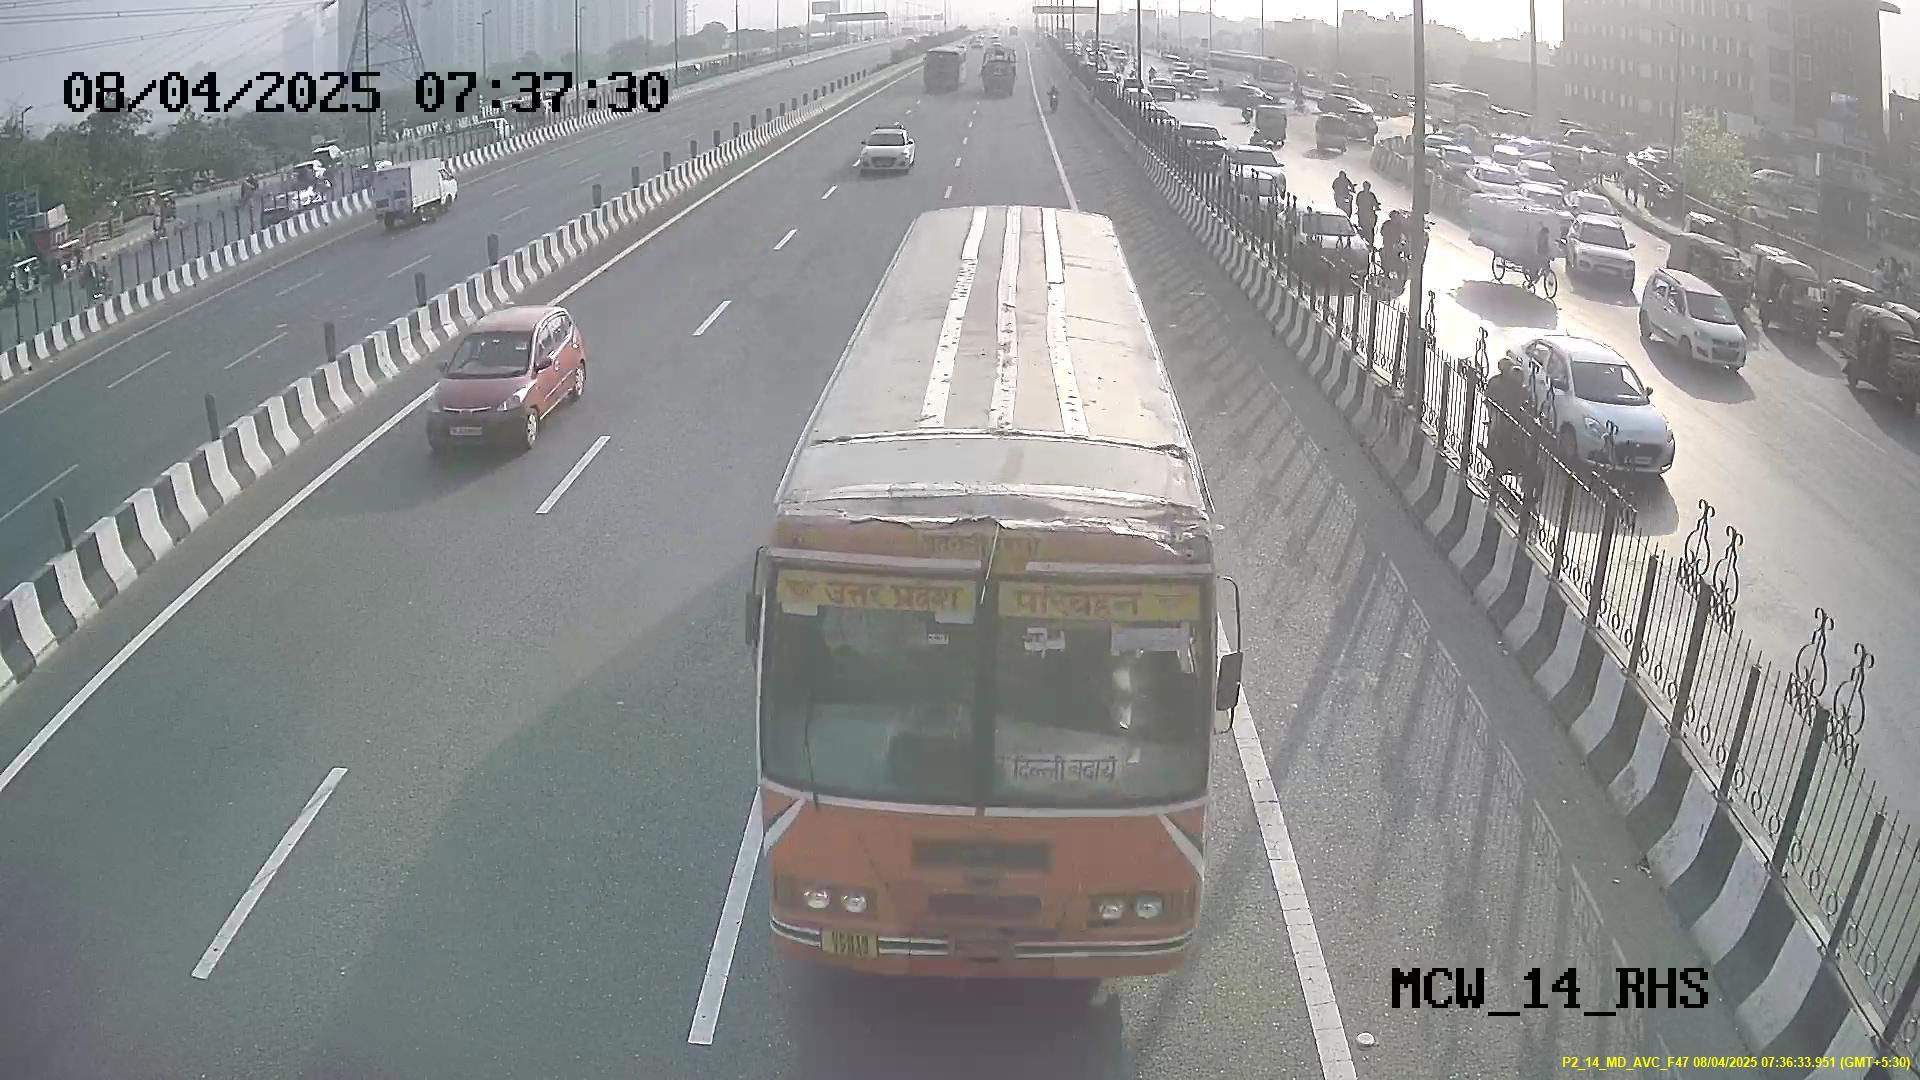bus: (749, 483, 1233, 990)
car: (418, 309, 560, 452)
